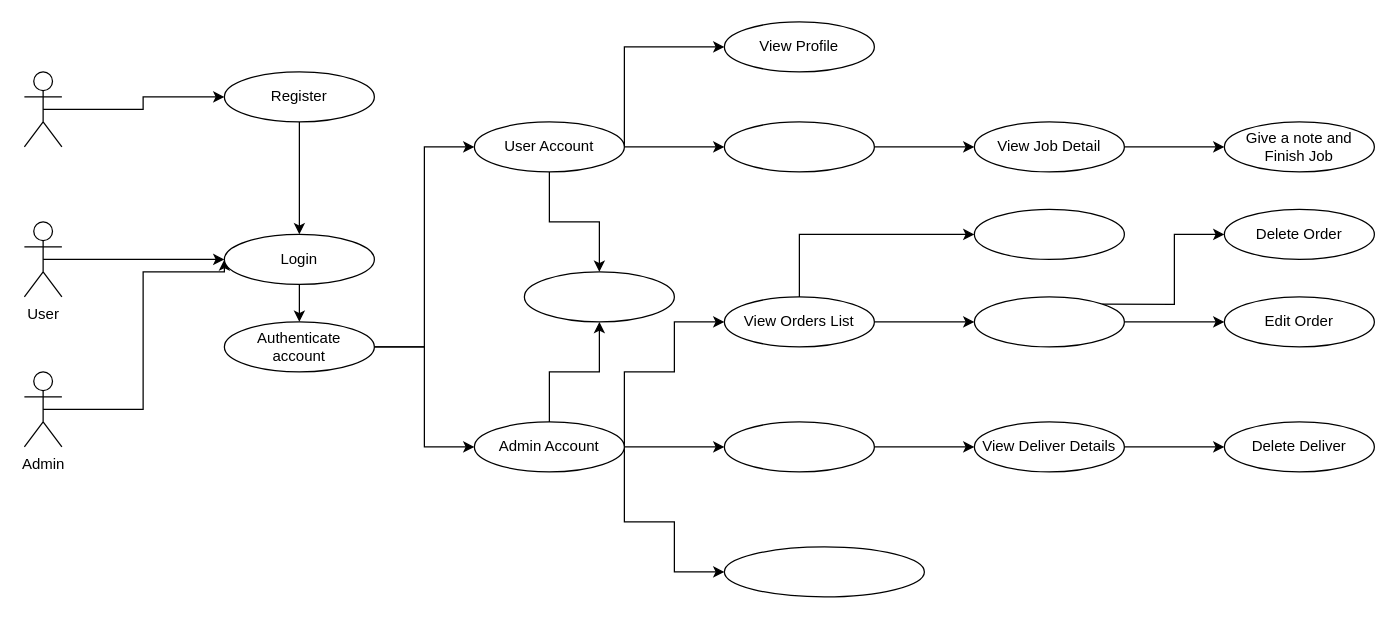
Some shapes in this 1396 by 619 pixel diagram are drawn without their labels. Each missing label, with the centre of its shape:
"Assign Order to Deliver" goes at pixel 823 571.
"Create New Order" goes at pixel 1048 233.
"Guess" goes at pixel 42 109.
"Logout" goes at pixel 598 296.
"View Delivers List" goes at pixel 798 446.
"View Jobs List" goes at pixel 798 146.
"View Order Details" goes at pixel 1048 321.
